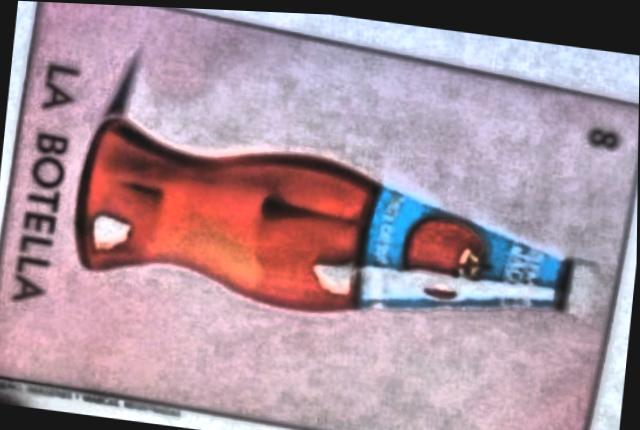La Botella: (0, 1, 639, 430)
